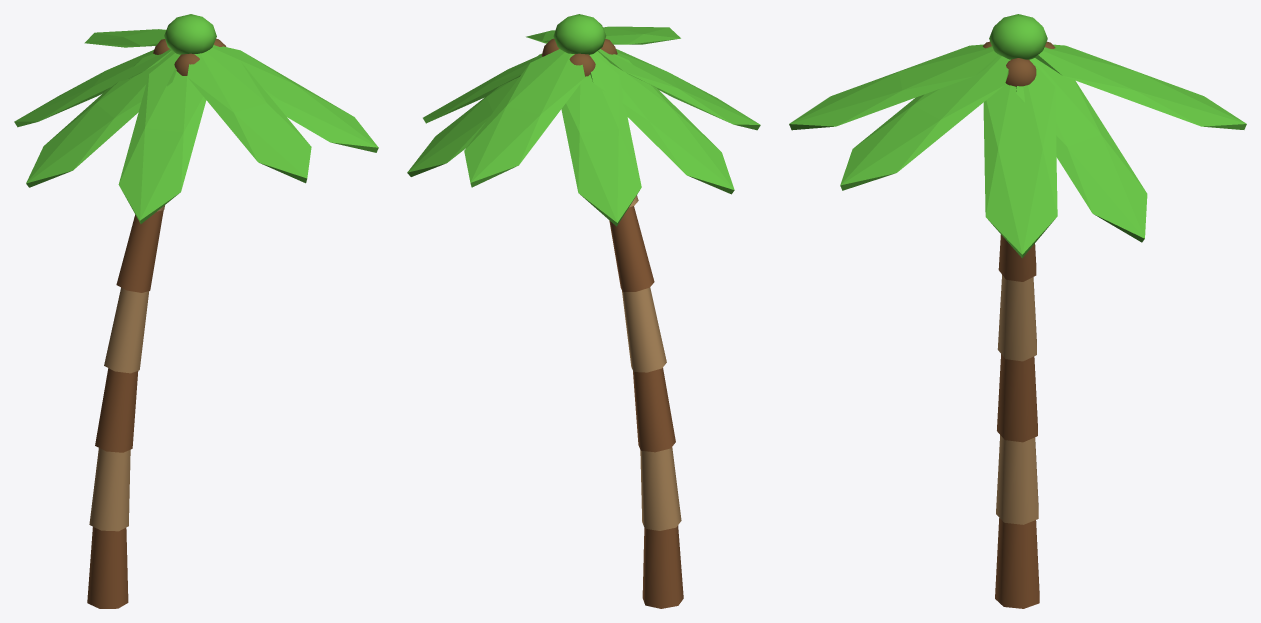
Rendered from palma_coco.glb.
3 renders of one model, left to right at view 1: azimuth 30°, elevation 25°; view 2: azimuth 150°, elevation 25°; view 3: azimuth 270°, elevation 25°, orthographic. The views are drawn at different scales.
Visible parts, largest first — view 1: hoja (×6), tronco_1, tronco_2, tronco_3, tronco_4, tronco_5, corona; view 2: hoja (×7), tronco_1, tronco_2, tronco_3, tronco_4, tronco_5, corona; view 3: hoja (×5), tronco_1, tronco_2, tronco_3, tronco_4, corona, tronco_5, coco_1.
Part boxes in pixels (<box>): hoja (×6): <box>14,29,378,223</box>; tronco_1: <box>87,527,128,608</box>; tronco_2: <box>89,448,130,531</box>; tronco_3: <box>95,368,138,452</box>; tronco_4: <box>104,287,149,373</box>; tronco_5: <box>116,210,163,292</box>; corona: <box>164,14,216,54</box>; hoja (×7): <box>407,26,760,226</box>; tronco_1: <box>642,525,683,608</box>; tronco_2: <box>640,447,681,530</box>; tronco_3: <box>633,368,675,452</box>; tronco_4: <box>622,287,666,372</box>; tronco_5: <box>609,206,654,291</box>; corona: <box>553,14,606,54</box>; hoja (×5): <box>789,44,1246,258</box>; tronco_1: <box>995,518,1039,608</box>; tronco_2: <box>996,435,1038,524</box>; tronco_3: <box>997,354,1037,442</box>; tronco_4: <box>997,275,1036,361</box>; corona: <box>989,14,1047,59</box>; tronco_5: <box>998,235,1036,281</box>; coco_1: <box>1005,58,1036,86</box>.
Bounding box in the file's own units: 3.44 × 5.88 × 3.89.
